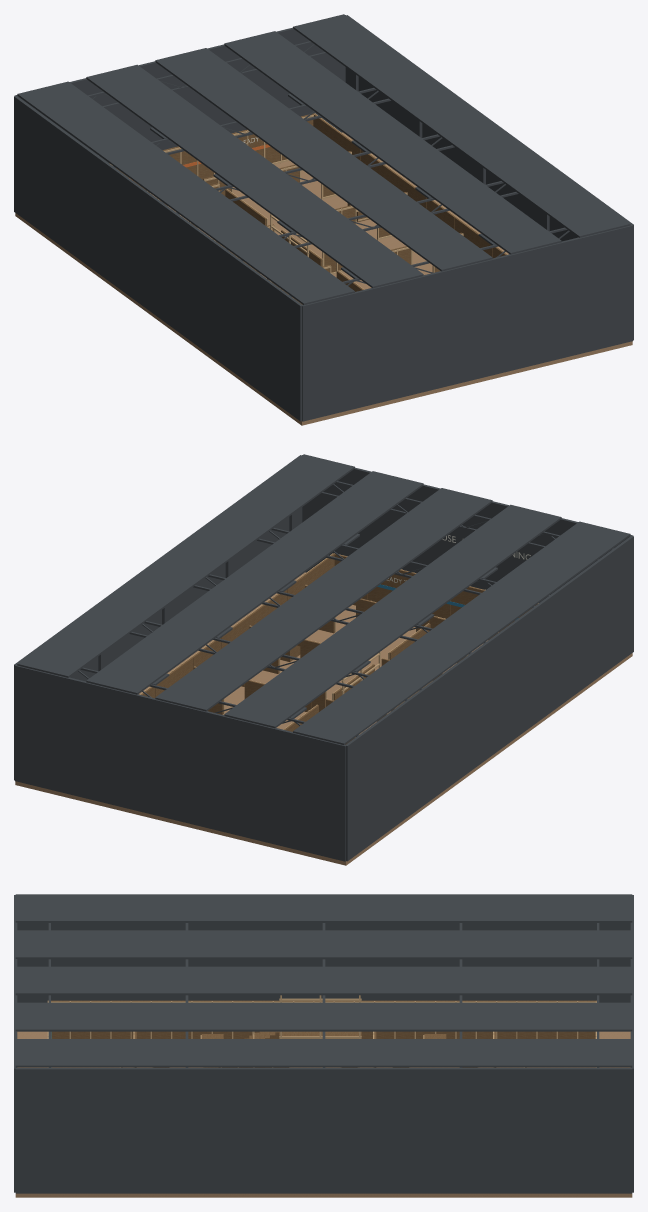
The model's file is bomb_house.glb.
3 views of the same model, one above another, from view 1: azimuth 30°, elevation 25°; view 2: azimuth 150°, elevation 25°; view 3: azimuth 270°, elevation 25° (orthographic). The views are drawn at different scales.
Parts seen in each view (by area): view 1: Warehouse end.001, Warehouse side, Roof sheet.002, Roof sheet.001, Roof sheet.004, Roof sheet, Roof sheet.003, Warehouse end, Warehouse slab, Warehouse side.001; view 2: Warehouse end, Warehouse side, Roof sheet.002, Roof sheet.001, Roof sheet.004, Roof sheet, Roof sheet.003, Warehouse end.001, Warehouse slab, Warehouse side.001; view 3: Warehouse side.001, Roof sheet.001, Roof sheet.002, Roof sheet.003, Roof sheet, Roof sheet.004, Warehouse side, Warehouse slab, Field perimeter plate.001, Warehouse end.001, Warehouse end, Raised deck.
Part boxes in pixels (x1,y1,x2,y2): Warehouse end.001: [301, 224, 633, 421]; Warehouse side: [14, 96, 301, 421]; Roof sheet.002: [155, 48, 492, 271]; Roof sheet.001: [86, 64, 423, 288]; Roof sheet.004: [293, 14, 630, 237]; Roof sheet: [17, 81, 354, 304]; Roof sheet.003: [224, 31, 561, 254]; Warehouse end: [14, 15, 345, 162]; Warehouse slab: [15, 132, 632, 425]; Warehouse side.001: [345, 15, 633, 339]; Warehouse end: [14, 664, 346, 861]; Warehouse side: [346, 536, 633, 861]; Roof sheet.002: [155, 488, 492, 711]; Roof sheet.001: [224, 504, 561, 728]; Roof sheet.004: [17, 454, 354, 677]; Roof sheet: [293, 521, 630, 744]; Roof sheet.003: [86, 471, 423, 694]; Warehouse end.001: [302, 455, 633, 602]; Warehouse slab: [15, 572, 632, 865]; Warehouse side.001: [14, 455, 302, 779]; Warehouse side.001: [15, 1068, 632, 1193]; Roof sheet.001: [15, 930, 632, 959]; Roof sheet.002: [15, 966, 632, 995]; Roof sheet.003: [15, 1002, 632, 1031]; Roof sheet: [15, 894, 632, 922]; Roof sheet.004: [15, 1039, 632, 1067]; Warehouse side: [17, 923, 630, 1002]; Warehouse slab: [15, 1031, 632, 1197]; Field perimeter plate.001: [51, 1001, 596, 1002]; Warehouse end.001: [14, 895, 17, 1192]; Warehouse end: [630, 895, 633, 1192]; Raised deck: [279, 1031, 361, 1038].
Bounding box in the file's own units: 24.2 × 8.44 × 36.2.
8 materials, 2 textured.
